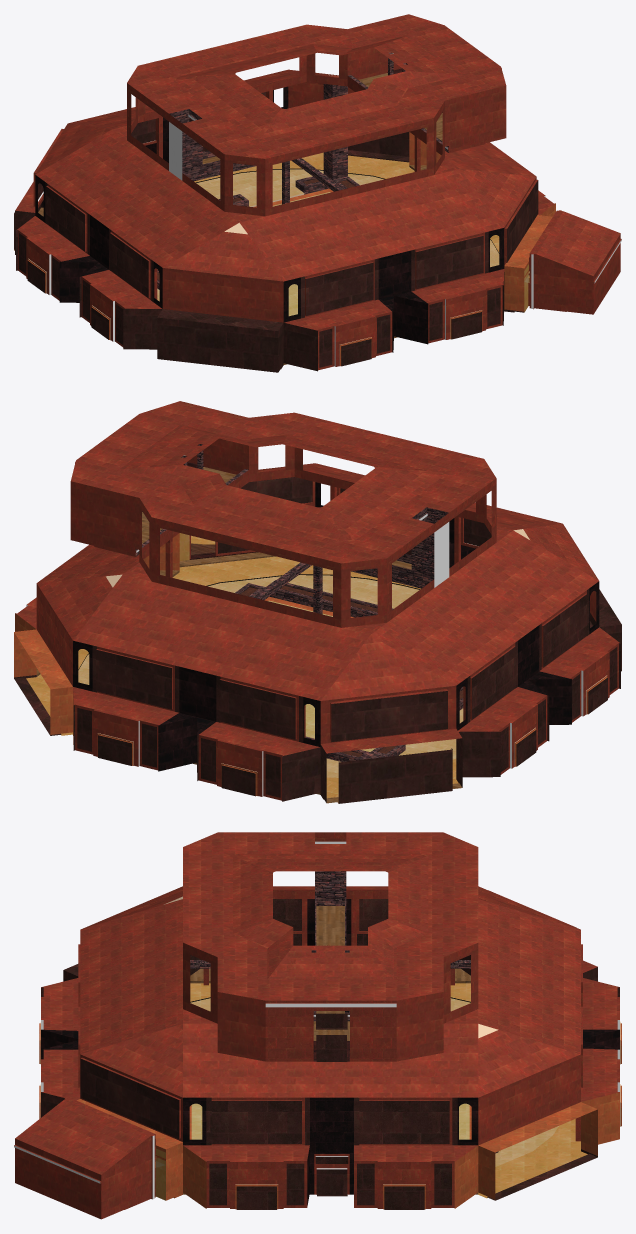
Rendered from homeroom.dae.
The picture shows the model from 3 angles, top to bottom: view 1: azimuth 30°, elevation 25°; view 2: azimuth 150°, elevation 25°; view 3: azimuth 270°, elevation 25°; orthographic projection. The views are drawn at different scales.
Parts seen in each view (by area): view 1: Mesh1_Model; view 2: Mesh1_Model; view 3: Mesh1_Model.
Part boxes in pixels (left/top/right/bottom): Mesh1_Model: left=14, top=14, right=621, bottom=372; Mesh1_Model: left=14, top=401, right=621, bottom=803; Mesh1_Model: left=14, top=832, right=621, bottom=1219.
Bounding box in the file's own units: 64.38 × 64.38 × 27.11.
21 materials, 14 textured.
